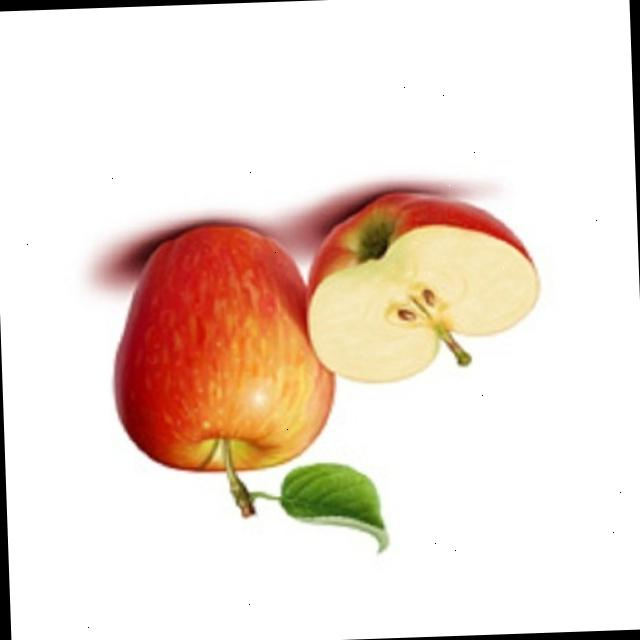Apel: (107, 217, 391, 565), (302, 185, 546, 388)
